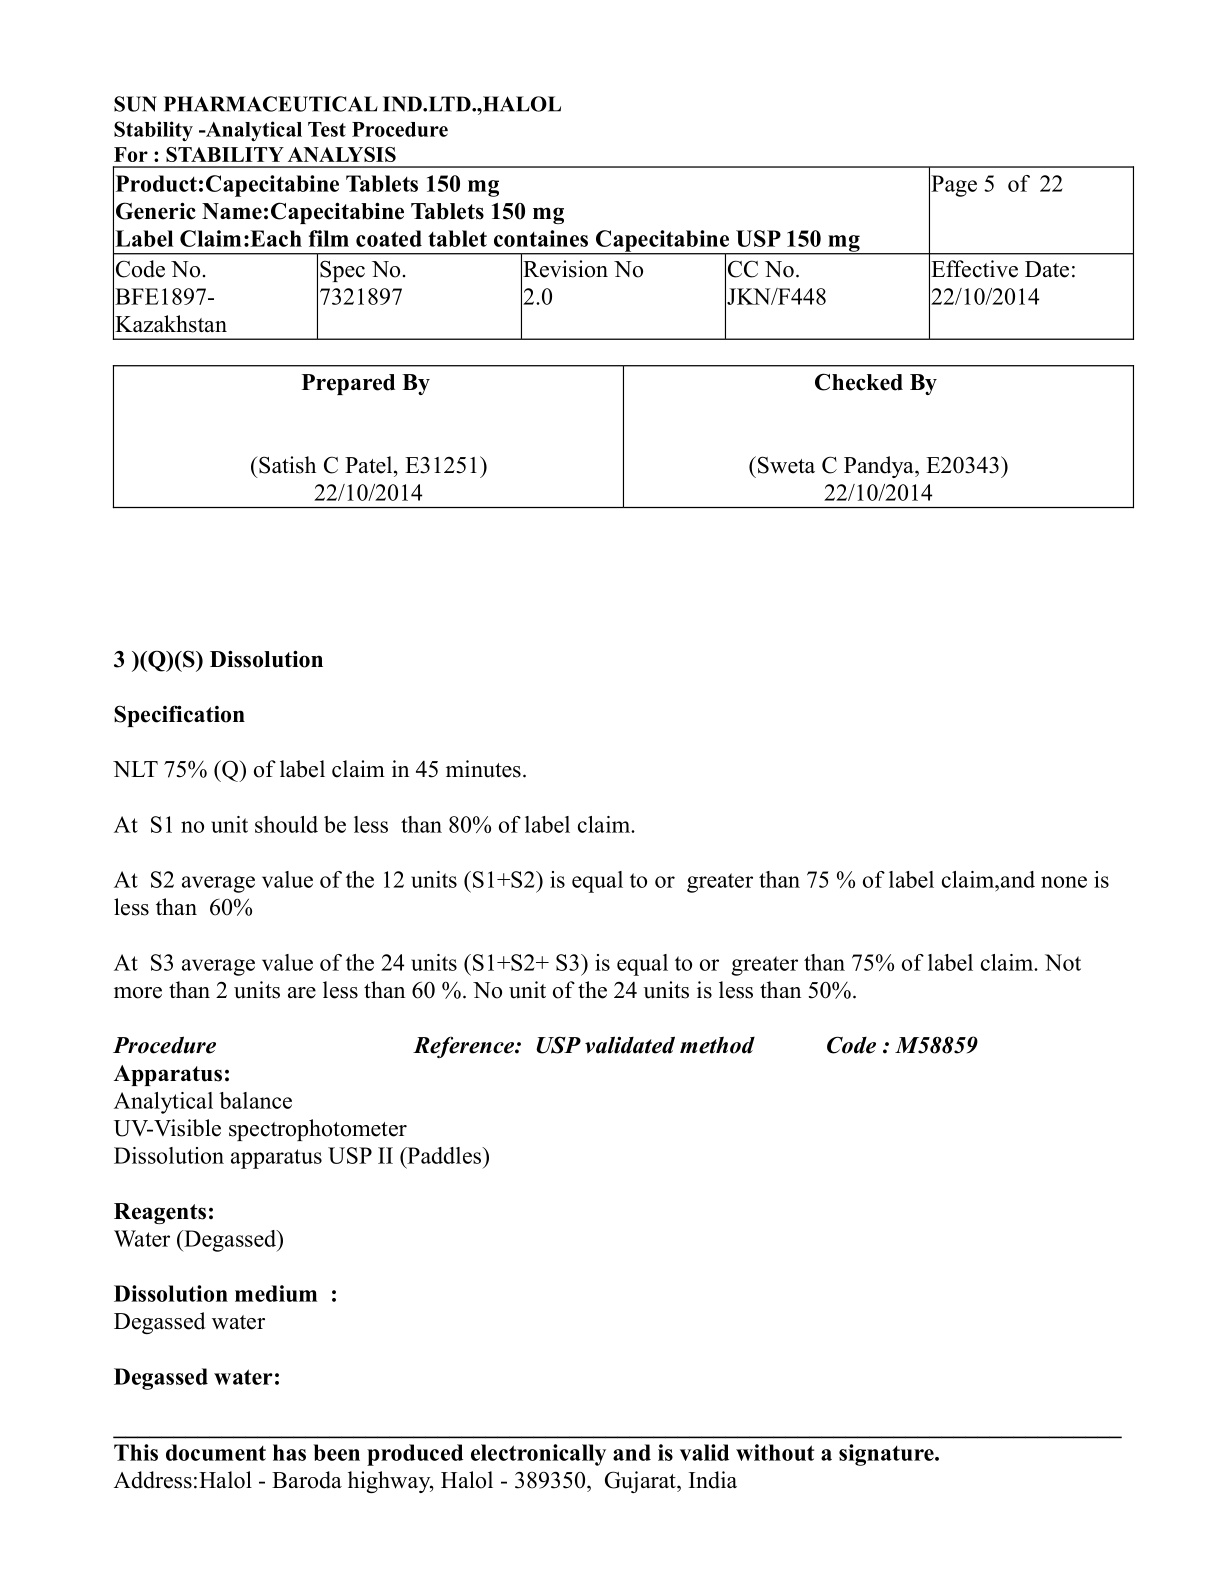merged_cells: (112, 165, 1135, 341), (112, 364, 1135, 509)
